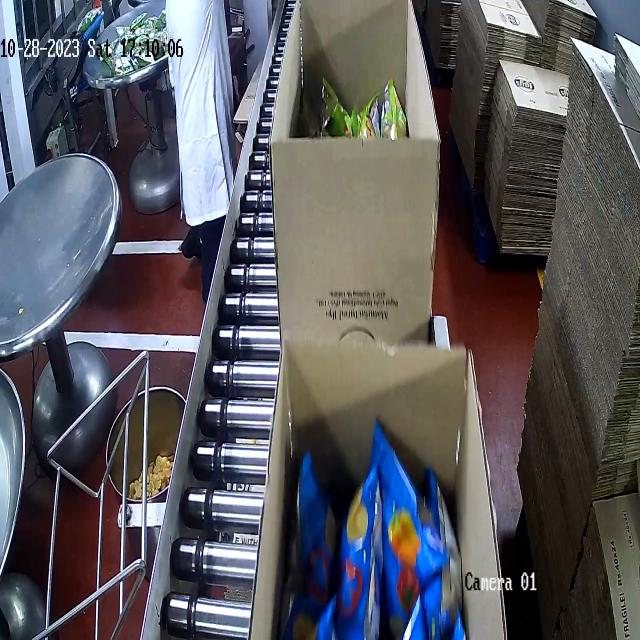PAPRIKA: (286, 429, 464, 640)
